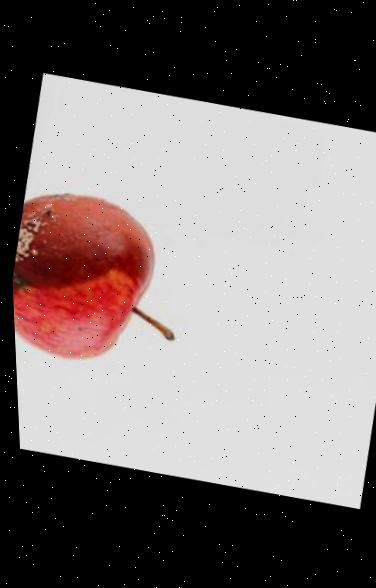ROT: (8, 166, 210, 401)
